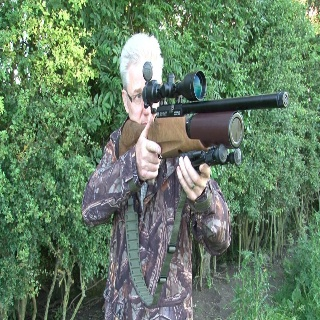rifle: (112, 60, 290, 170)
